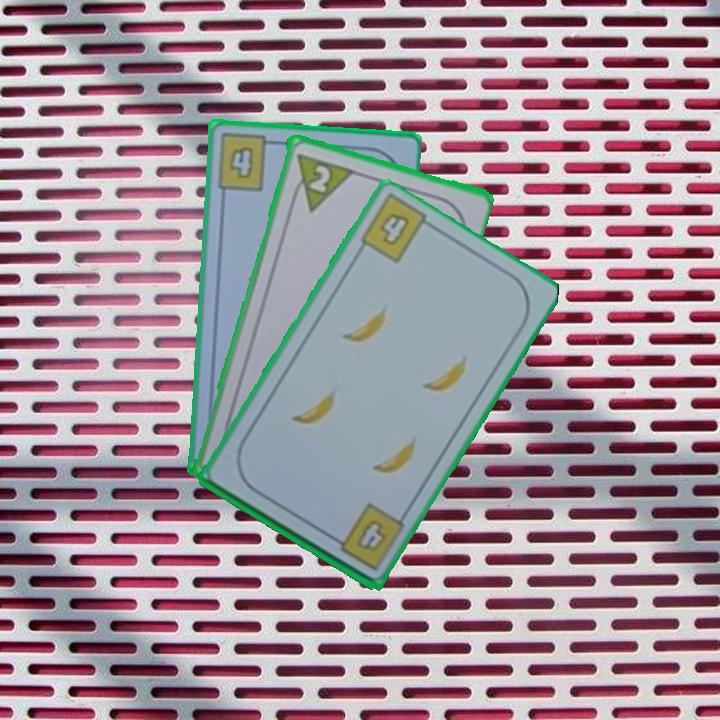2p: (285, 149, 355, 215)
4b: (326, 499, 404, 574), (213, 130, 280, 194), (376, 208, 413, 249)
